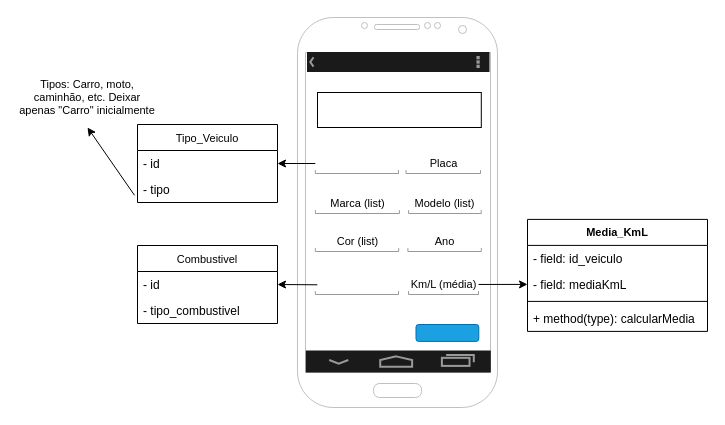
Image size: 725x425. Some labels were removed from this diagram. Here are the shapes that lost their labels. From the top down, the centre of each, then its label:
the point at 398,61: Preencha os dados do veículo
the point at 398,110: Animação / Foto veículo
the point at 356,163: Tipo veículo
the point at 356,284: Combustível (list)
the point at 447,332: Salvar
